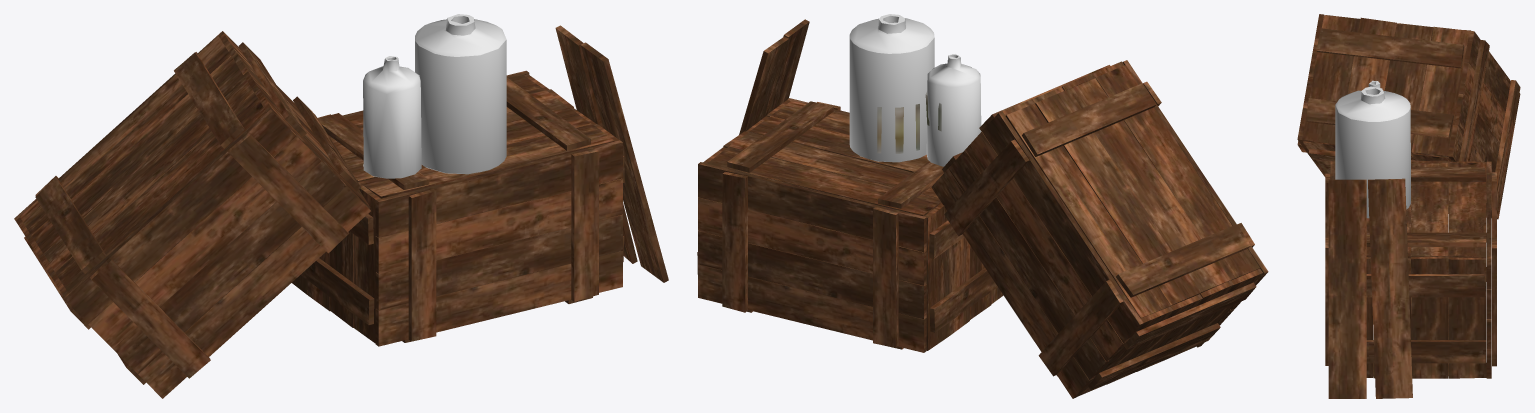
The model's file is KB3D_NEC_BldgSM_C_CratesA.glb.
3 views of the same model, side by side, from view 1: azimuth 30°, elevation 25°; view 2: azimuth 150°, elevation 25°; view 3: azimuth 270°, elevation 25° (orthographic). The views are drawn at different scales.
Visible parts, largest first — view 1: KB3D_NEC_BldgSM_C_CratesA; view 2: KB3D_NEC_BldgSM_C_CratesA; view 3: KB3D_NEC_BldgSM_C_CratesA.
Part boxes in pixels (x1,y1,x2,y2): KB3D_NEC_BldgSM_C_CratesA: (14, 14, 668, 398); KB3D_NEC_BldgSM_C_CratesA: (697, 14, 1268, 398); KB3D_NEC_BldgSM_C_CratesA: (1297, 14, 1520, 398).
Size of the model in its own units: 3.65 by 1.72 by 1.47.
Materials: 3 (2 with a texture image).
